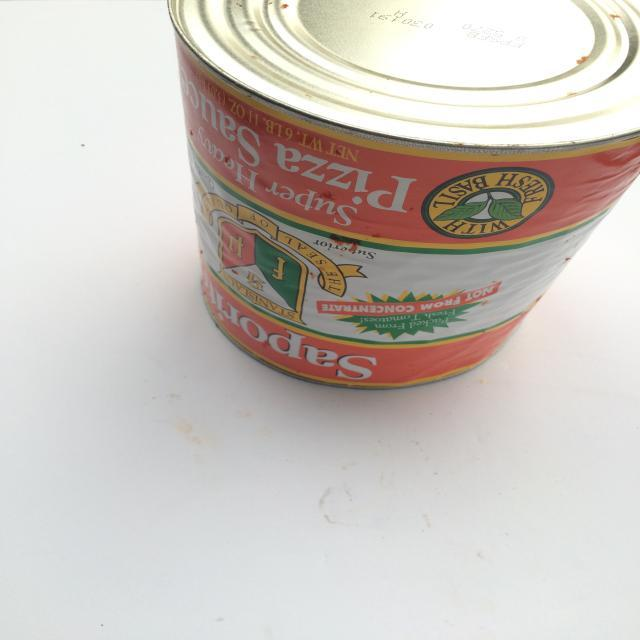metal: (164, 0, 640, 389)
